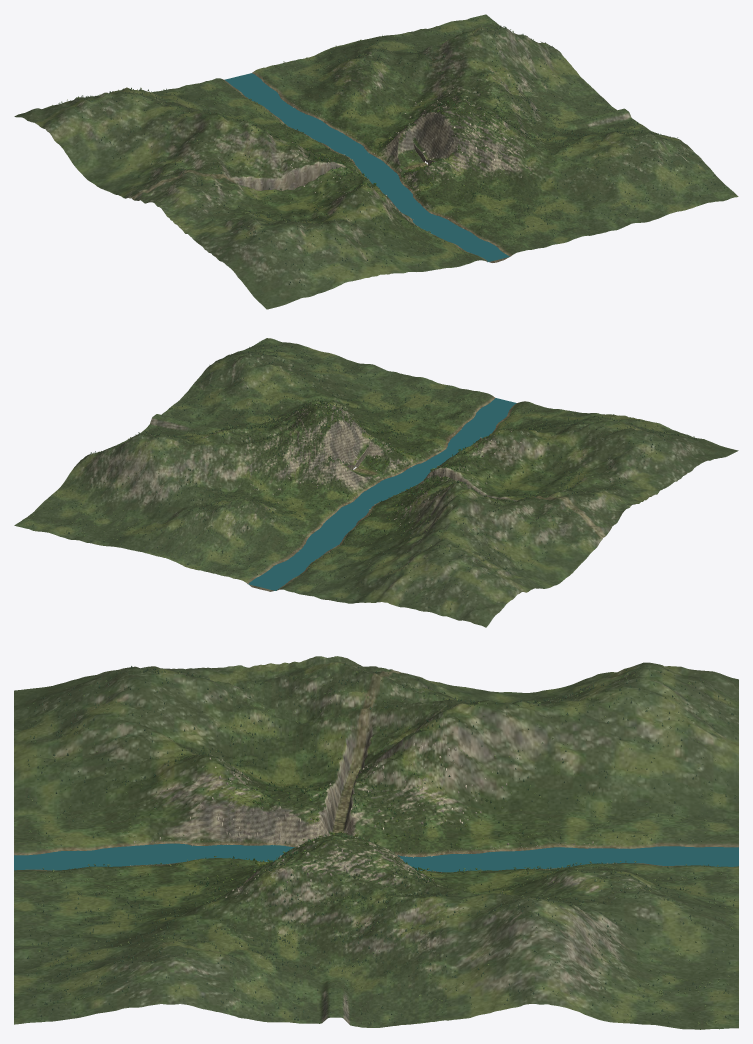
File: songlan-valley.glb
3 renders of one model, top to bottom at view 1: azimuth 30°, elevation 25°; view 2: azimuth 150°, elevation 25°; view 3: azimuth 270°, elevation 25°, orthographic. The views are drawn at different scales.
Visible parts, largest first — view 1: Western ridge and valley floor, Eastern ridge and tunnel cover, SonglanWater, Mixed slope forest +335/-280, Mixed slope forest -1150/-1090, Mixed slope forest +335/-1090, Mixed slope forest -345/-280, Outcrops and rockfalls around the cutting, Mixed slope forest -345/-1090; view 2: Western ridge and valley floor, Eastern ridge and tunnel cover, SonglanWater, Mixed slope forest +335/-280, Mixed slope forest +335/-1090, Mixed slope forest -1150/-1090, Mixed slope forest -345/-280, Outcrops and rockfalls around the cutting, Mixed slope forest +335/+835, Mixed slope forest -1150/+835; view 3: Western ridge and valley floor, Eastern ridge and tunnel cover, SonglanWater, Mixed slope forest +335/-280, Mixed slope forest -1150/-1090, Mixed slope forest +335/-1090, Outcrops and rockfalls around the cutting, Mixed slope forest -345/-1090, Mixed slope forest -1150/-280, Mixed slope forest -1150/+835, Mixed slope forest -345/-280, Mixed slope forest +335/+835 (+2 smaller).
Boxes of the visible parts, <box> form: Western ridge and valley floor: <box>14,62,537,309</box>; Eastern ridge and tunnel cover: <box>286,14,738,248</box>; SonglanWater: <box>224,73,509,262</box>; Mixed slope forest +335/-280: <box>404,78,586,171</box>; Mixed slope forest -1150/-1090: <box>212,187,422,289</box>; Mixed slope forest +335/-1090: <box>470,138,666,239</box>; Mixed slope forest -345/-280: <box>294,123,457,191</box>; Outcrops and rockfalls around the cutting: <box>266,87,540,211</box>; Mixed slope forest -345/-1090: <box>357,174,529,260</box>; Western ridge and valley floor: <box>214,389,738,627</box>; Eastern ridge and tunnel cover: <box>14,338,466,573</box>; SonglanWater: <box>247,398,516,590</box>; Mixed slope forest +335/-280: <box>205,399,368,481</box>; Mixed slope forest +335/-1090: <box>256,356,444,435</box>; Mixed slope forest -1150/-1090: <box>496,412,699,484</box>; Mixed slope forest -345/-280: <box>312,431,481,507</box>; Outcrops and rockfalls around the cutting: <box>242,402,523,529</box>; Mixed slope forest +335/+835: <box>84,456,244,567</box>; Mixed slope forest -1150/+835: <box>332,533,510,615</box>; Western ridge and valley floor: <box>14,656,738,888</box>; Eastern ridge and tunnel cover: <box>14,833,738,1029</box>; SonglanWater: <box>14,843,738,872</box>; Mixed slope forest +335/-280: <box>257,831,431,969</box>; Mixed slope forest -1150/-1090: <box>27,666,256,803</box>; Mixed slope forest +335/-1090: <box>27,876,255,975</box>; Outcrops and rockfalls around the cutting: <box>190,743,508,908</box>; Mixed slope forest -345/-1090: <box>28,764,257,894</box>; Mixed slope forest -1150/-280: <box>256,663,429,789</box>; Mixed slope forest -1150/+835: <box>571,665,736,805</box>; Mixed slope forest -345/-280: <box>255,773,431,878</box>; Mixed slope forest +335/+835: <box>570,865,735,976</box>.
Bounding box in the file's own units: 2770 × 337 × 2570.
6 materials, 1 textured.
